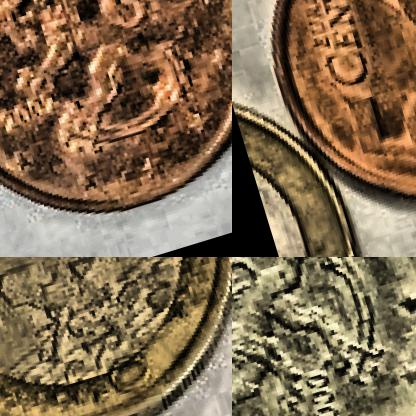coin: (0, 0, 231, 256), (234, 0, 415, 238), (0, 257, 231, 415), (232, 257, 415, 415)
